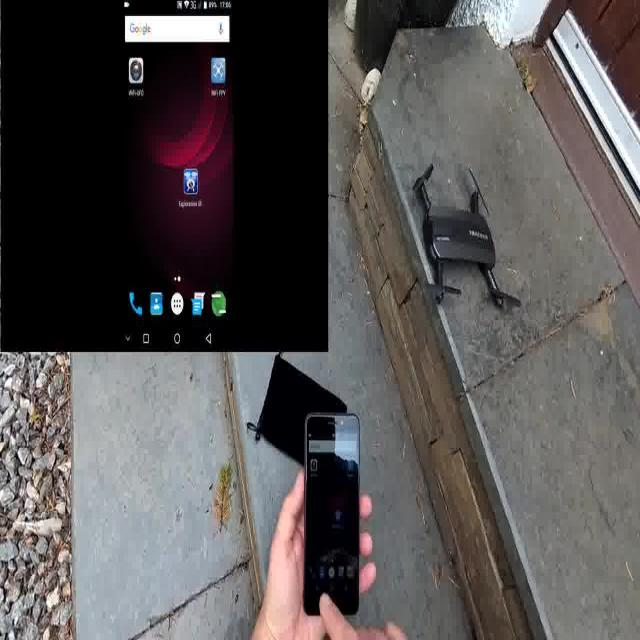drone: (412, 160, 523, 316)
